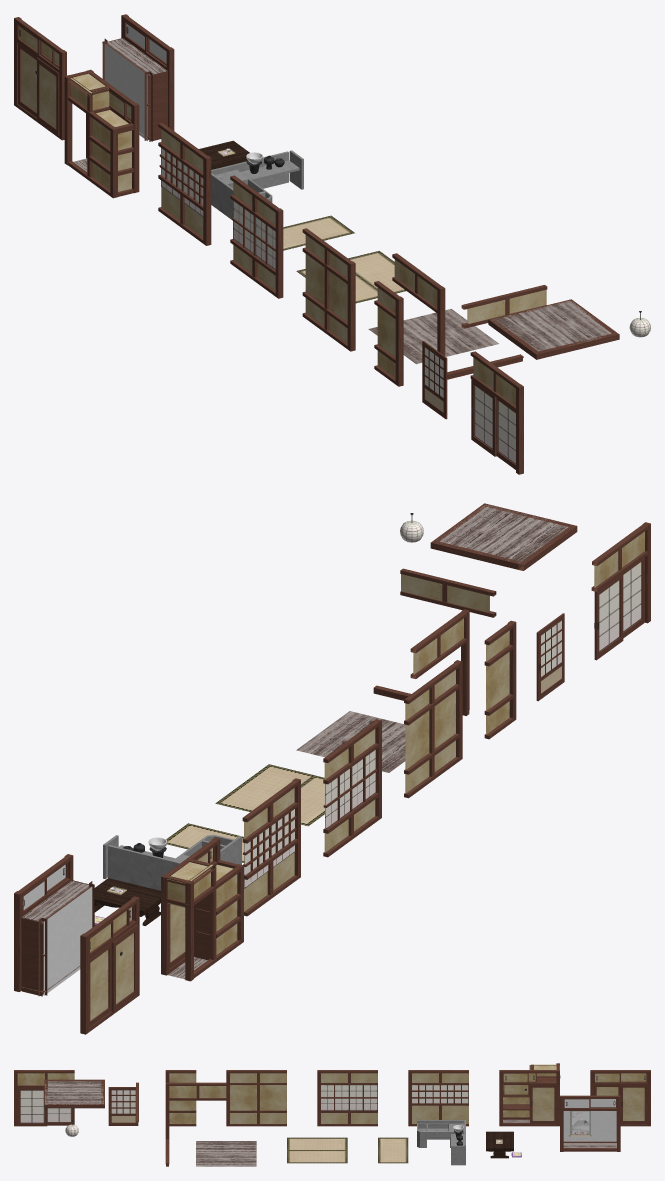
The model's file is japanese_machiya_set_kit.glb.
The picture shows the model from 3 angles, top to bottom: view 1: azimuth 30°, elevation 25°; view 2: azimuth 150°, elevation 25°; view 3: azimuth 270°, elevation 25°; orthographic projection. The views are drawn at different scales.
Parts seen in each view (by area): view 1: SM_wardrobe, SM_displayWall, SM_windowWallHigh, SM_windowWall, SM_wall, SM_wardrobeClosed, SM_ceiling, SM_kitchenBench, SM_floor, SM_wallHalf, SM_doorWall, SM_SeparatorL (+7 smaller); view 2: SM_wardrobe, SM_displayWall, SM_wardrobeClosed, SM_wall, SM_windowWall, SM_windowWallHigh, SM_ceiling, SM_kitchenBench, SM_wallHalf, SM_tatami, SM_floor, SM_SeparatorH (+7 smaller); view 3: SM_wardrobe, SM_wall, SM_windowWall, SM_windowWallHigh, SM_displayWall, SM_wardrobeClosed, SM_ceiling, SM_tatami, SM_floor, SM_SeparatorL, SM_kitchenBench, SM_wallHalf (+7 smaller).
Part boxes in pixels (box(x1,y1,x2,y2)): SM_wardrobe: box(64, 69, 139, 198); SM_displayWall: box(102, 14, 174, 141); SM_windowWallHigh: box(158, 122, 211, 245); SM_windowWall: box(230, 175, 283, 298); SM_wall: box(302, 228, 355, 351); SM_wardrobeClosed: box(14, 17, 66, 140); SM_ceiling: box(488, 299, 619, 359); SM_kitchenBench: box(211, 150, 303, 220); SM_floor: box(368, 309, 498, 364); SM_wallHalf: box(374, 281, 403, 386); SM_doorWall: box(470, 351, 523, 474); SM_SeparatorL: box(392, 253, 445, 355); SM_wardrobe: box(161, 837, 243, 981); SM_displayWall: box(14, 854, 94, 996); SM_wardrobeClosed: box(80, 896, 139, 1034); SM_wall: box(404, 660, 462, 798); SM_windowWall: box(323, 719, 381, 857); SM_windowWallHigh: box(242, 778, 300, 916); SM_ceiling: box(430, 503, 577, 570); SM_kitchenBench: box(103, 834, 241, 890); SM_wallHalf: box(484, 620, 516, 739); SM_tatami: box(215, 764, 324, 826); SM_floor: box(296, 711, 405, 772); SM_SeparatorH: box(400, 568, 496, 617); SM_wardrobe: box(499, 1063, 560, 1126); SM_wall: box(226, 1070, 286, 1126); SM_windowWall: box(317, 1070, 377, 1126); SM_windowWallHigh: box(408, 1070, 468, 1126); SM_displayWall: box(560, 1095, 620, 1151); SM_wardrobeClosed: box(590, 1070, 650, 1126); SM_ceiling: box(44, 1079, 104, 1108); SM_tatami: box(287, 1137, 347, 1163); SM_floor: box(196, 1141, 256, 1166); SM_SeparatorL: box(165, 1082, 226, 1139); SM_kitchenBench: box(417, 1120, 465, 1165); SM_wallHalf: box(165, 1070, 196, 1126).
Bounding box in the file's own units: 0.0238 × 0.0112 × 0.105.
6 materials, 5 textured.
